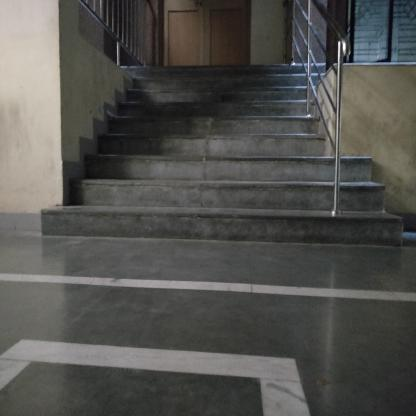stairs: (112, 118, 314, 249)
